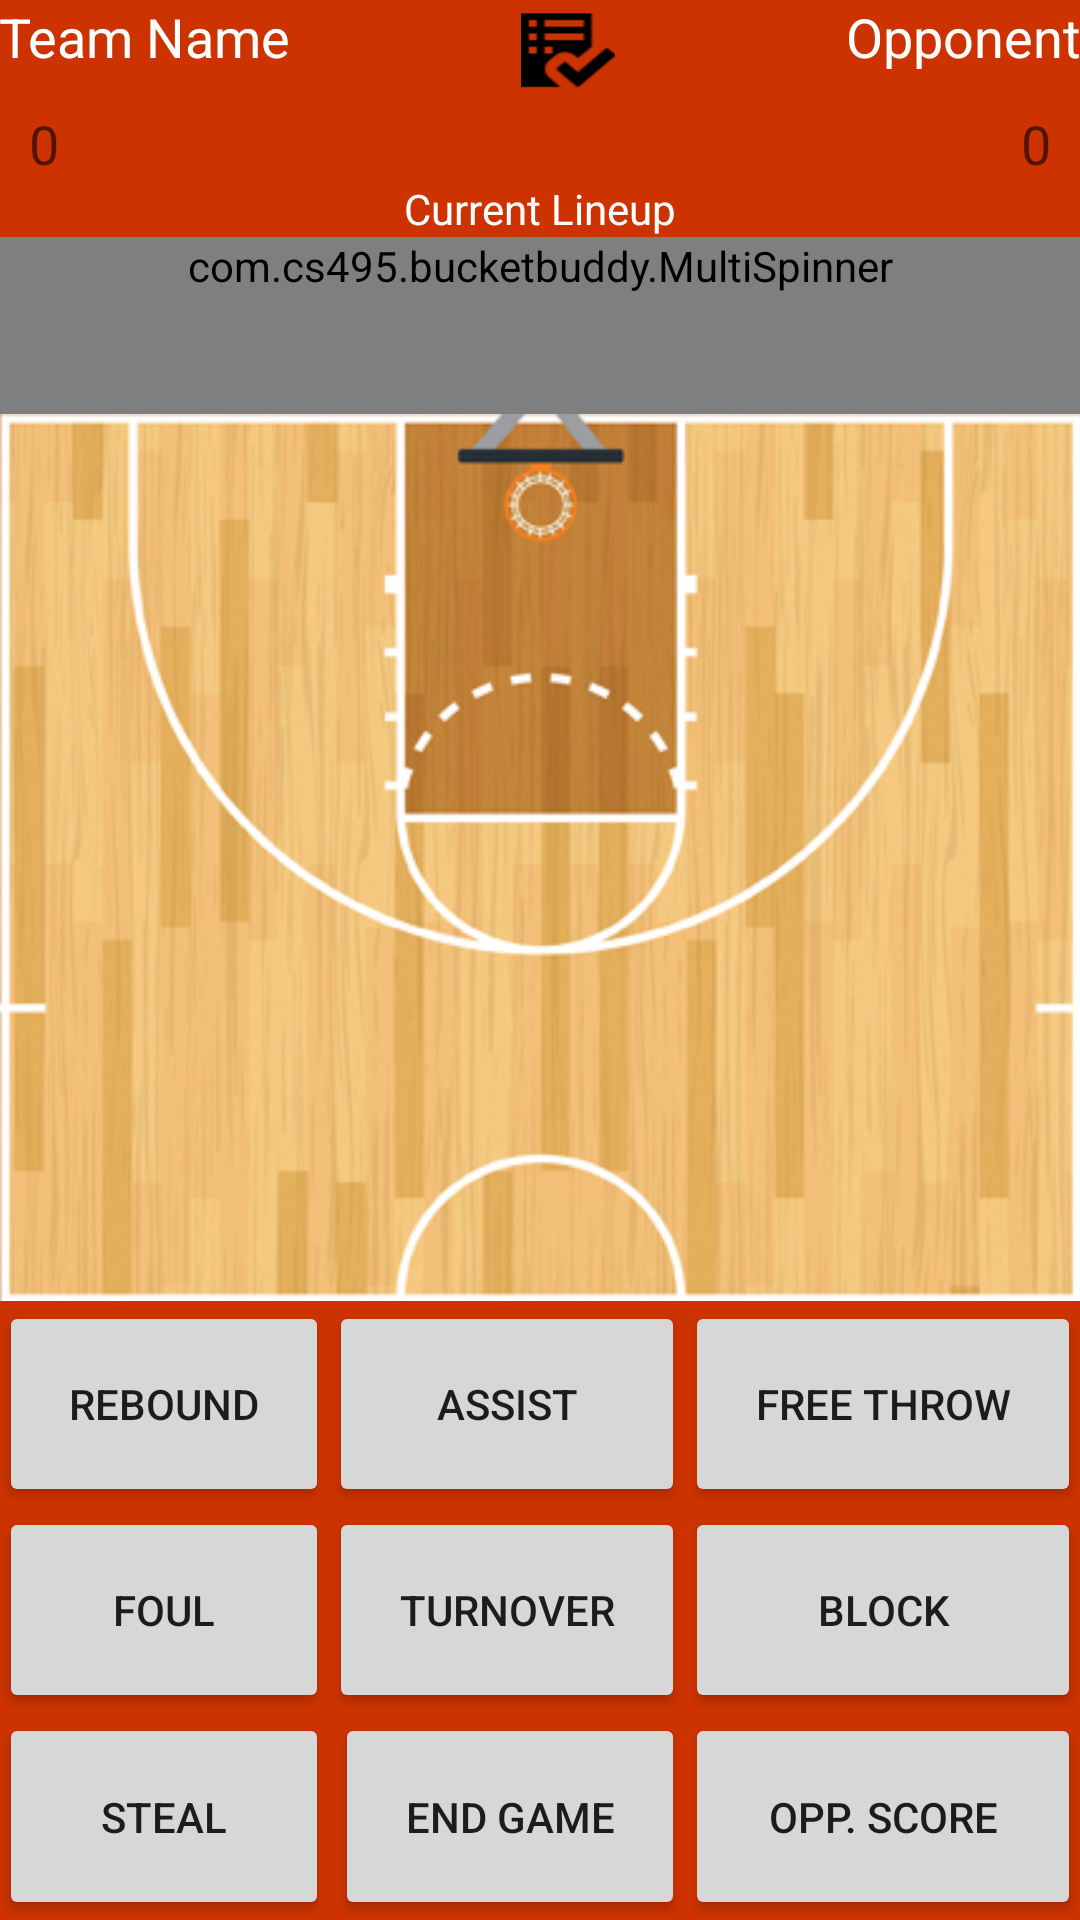

Locate icon controls on the screen. Image size 1080px×1920px, boxes as Rect(x1, y1, x2, y2).
checkbtn: Rect(521, 13, 615, 88)
